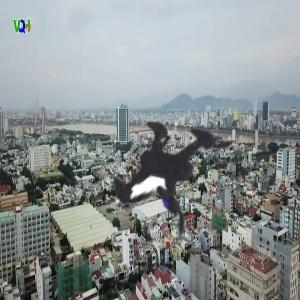drone: (35, 33, 291, 289)
